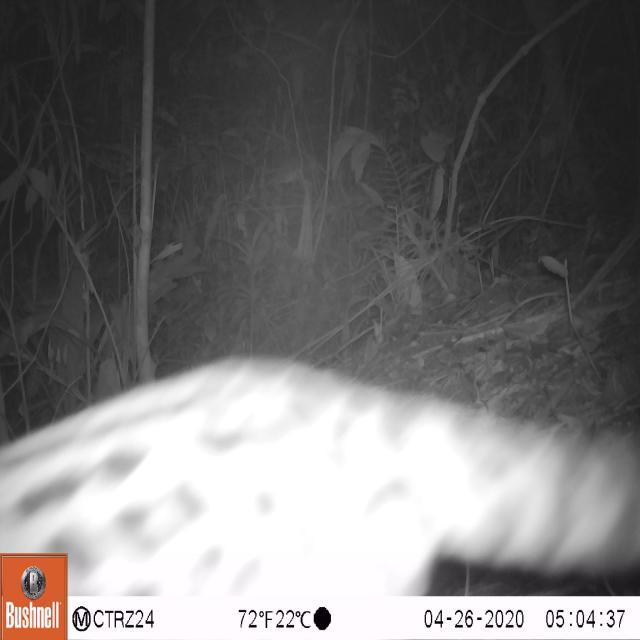Ocelote: (0, 348, 640, 592)
